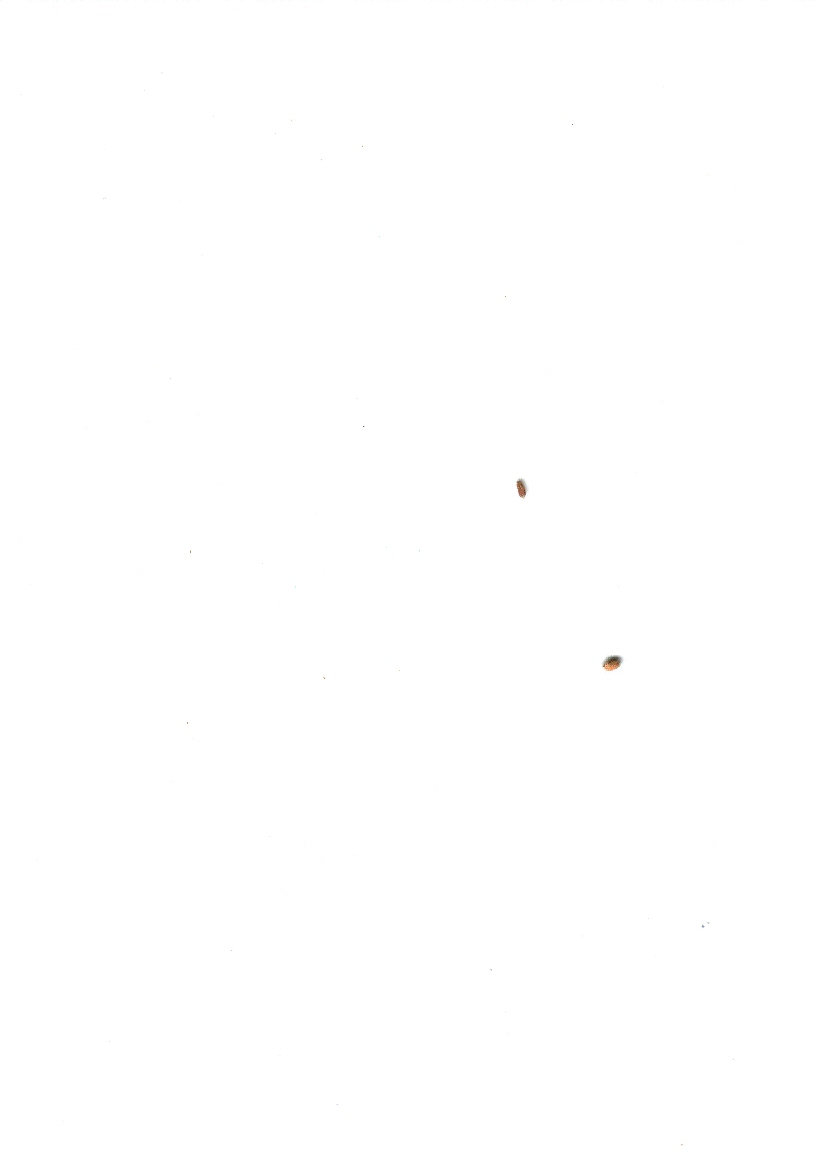grains: (594, 646, 627, 688), (510, 473, 537, 510)
